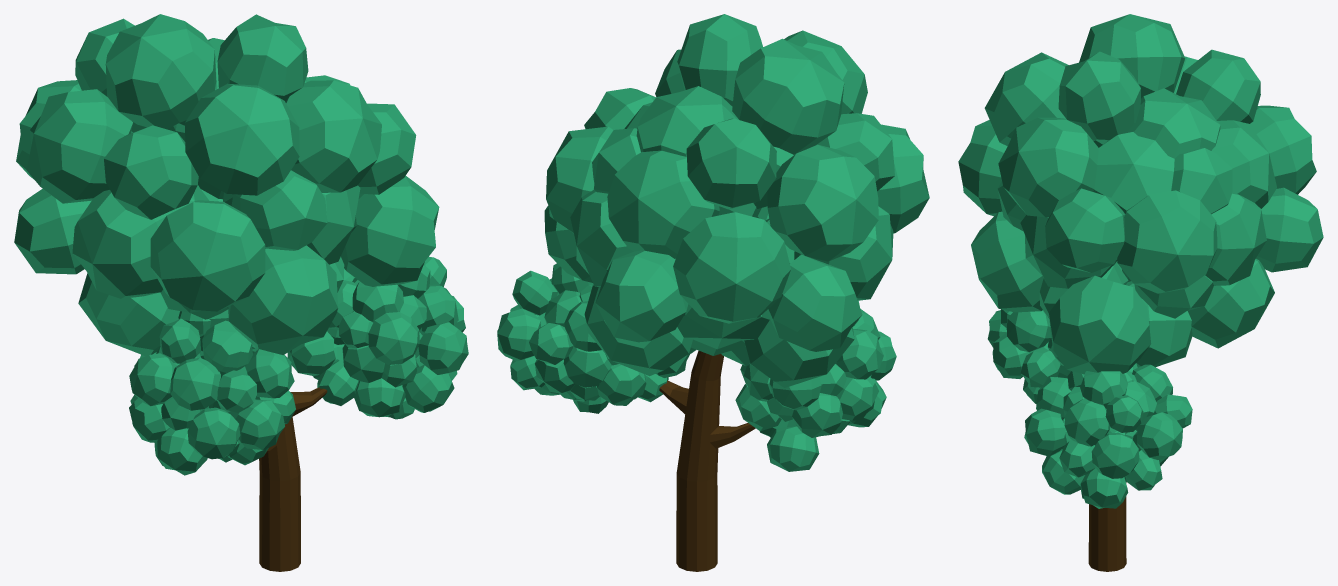
The model's file is ENV_Tree_1.fbx.
3 views of the same model, side by side, from view 1: azimuth 30°, elevation 25°; view 2: azimuth 150°, elevation 25°; view 3: azimuth 270°, elevation 25° (orthographic). The views are drawn at different scales.
Parts seen in each view (by area): view 1: ENV_Tree_1; view 2: ENV_Tree_1; view 3: ENV_Tree_1.
Part boxes in pixels (bbox=[...]): ENV_Tree_1: bbox=[14, 14, 468, 571]; ENV_Tree_1: bbox=[497, 14, 929, 571]; ENV_Tree_1: bbox=[958, 14, 1323, 571].
Size of the model in its own units: 2.85 by 3.81 by 2.52.
